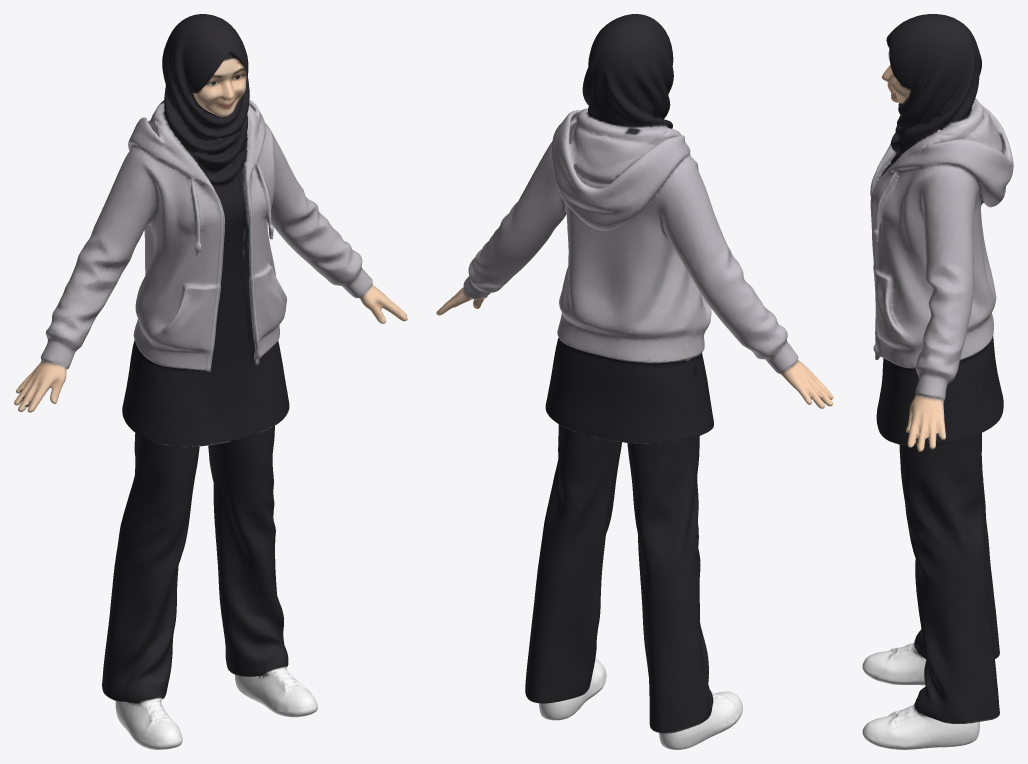
The model's file is avatar_meshy_source.glb.
The picture shows the model from 3 angles, left to right: view 1: azimuth 30°, elevation 25°; view 2: azimuth 150°, elevation 25°; view 3: azimuth 270°, elevation 25°; orthographic projection.
Bounding box in the file's own units: 1.11 × 1.9 × 0.3743.
Materials: 1 (1 with a texture image).
